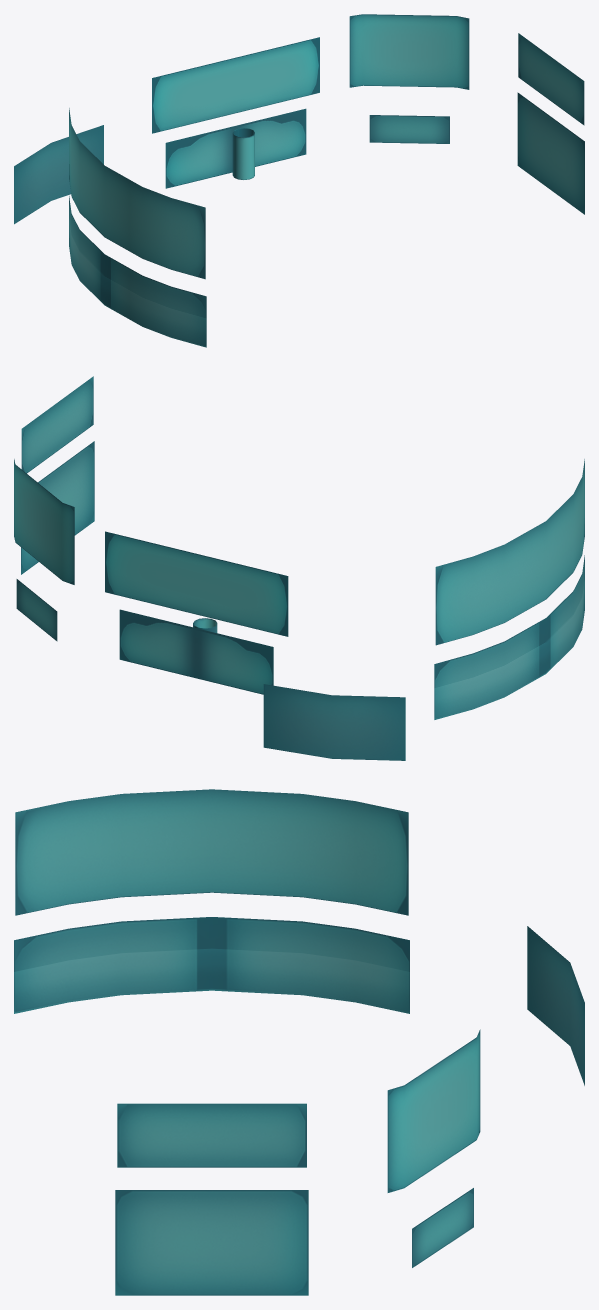
File: Glass.FBX
The picture shows the model from 3 angles, top to bottom: view 1: azimuth 30°, elevation 25°; view 2: azimuth 150°, elevation 25°; view 3: azimuth 270°, elevation 25°; orthographic projection. The views are drawn at different scales.
Parts seen in each view (by area): view 1: Glass; view 2: Glass; view 3: Glass.
Boxes of the visible parts, x1,y1,x2,y2 form: Glass: [14, 14, 584, 347]; Glass: [14, 376, 584, 760]; Glass: [14, 789, 584, 1295].
Bounding box in the file's own units: 6859 × 5278 × 2110.
